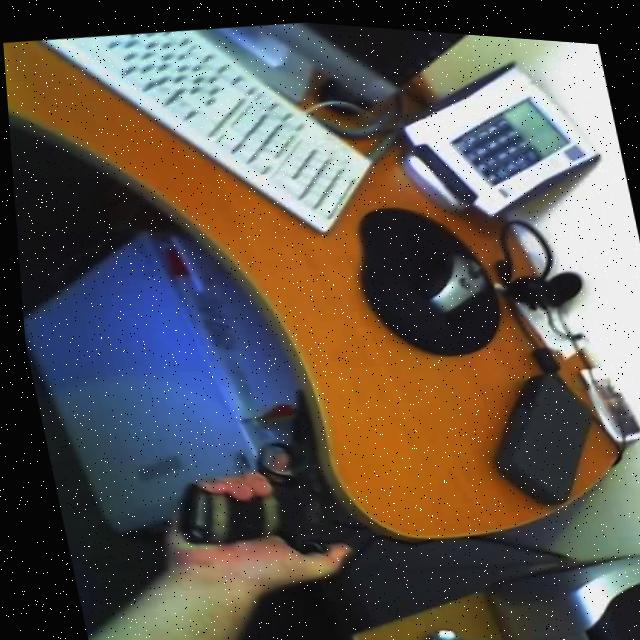pistol: (144, 373, 344, 570)
